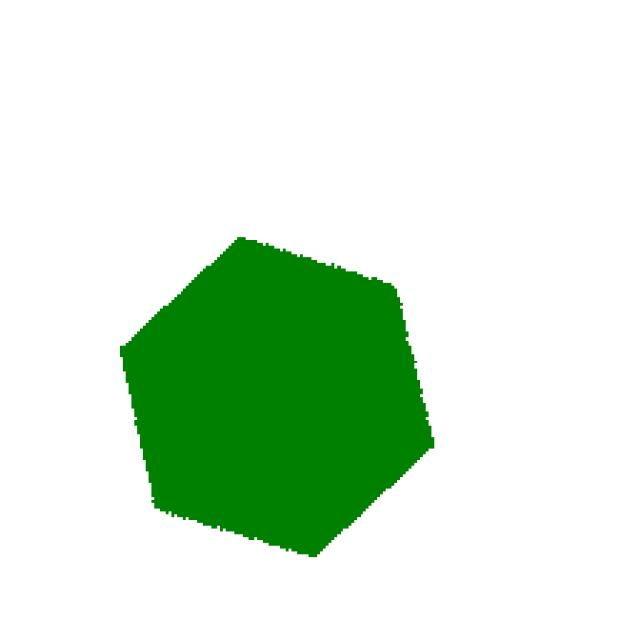Hexagon: (94, 207, 492, 603)
